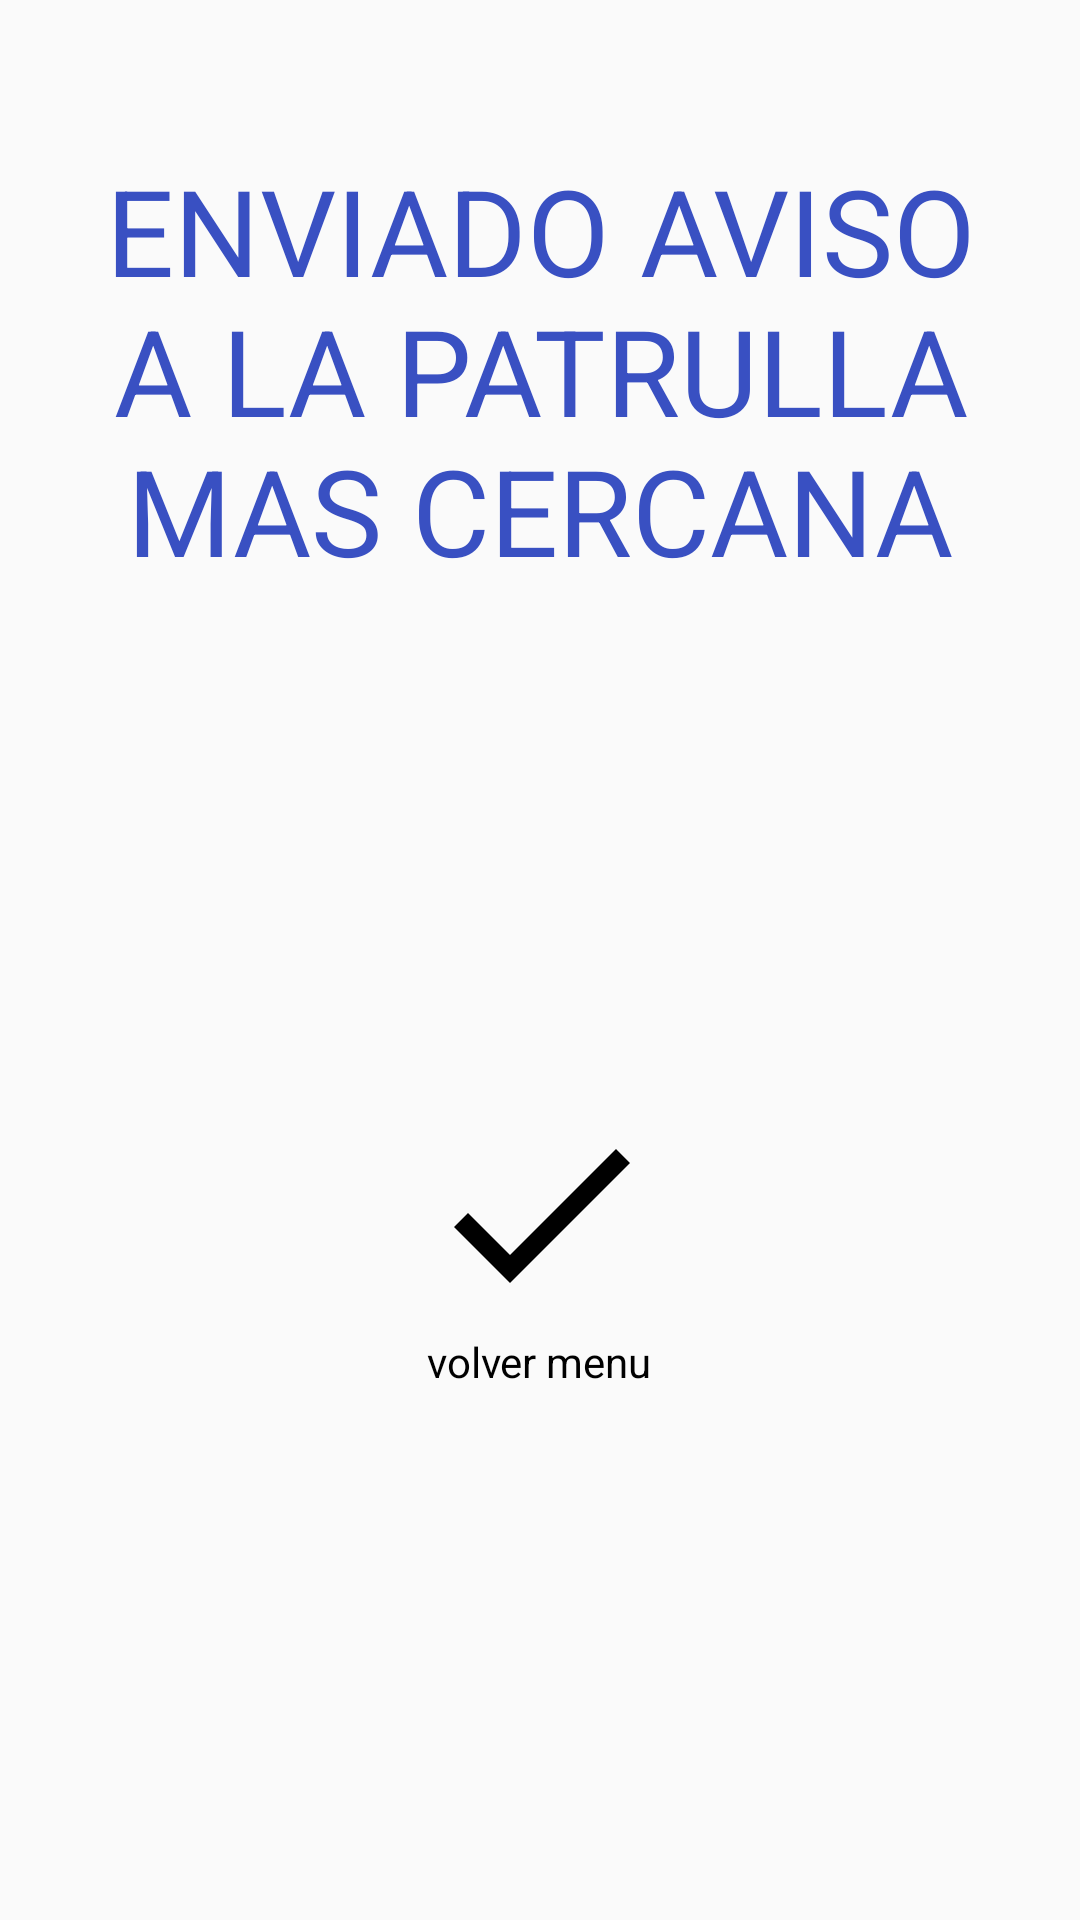

Icons on this 1080px x 1920px Android screen, each with its box as (x1, y1, x2, y2):
hecho: (454, 1149, 630, 1283)
